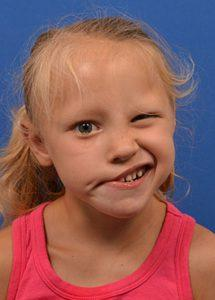strokeEyeSevere: (57, 101, 166, 141)
strokeMouthSevere: (82, 157, 155, 190)
